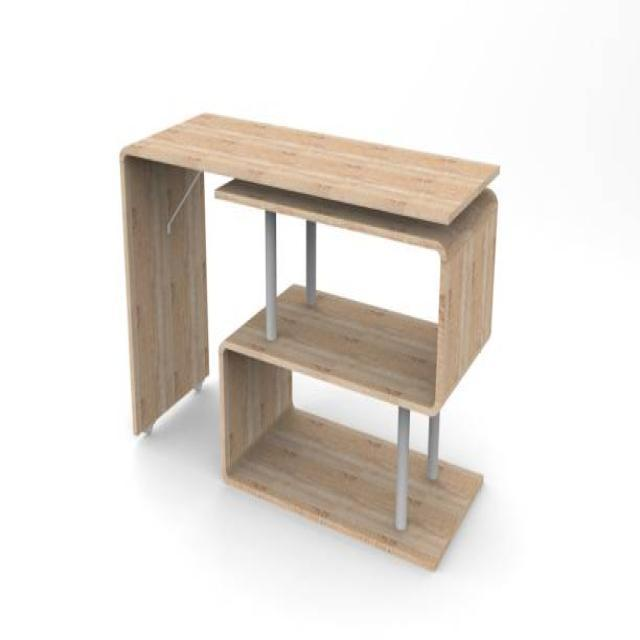table: (118, 109, 500, 570)
